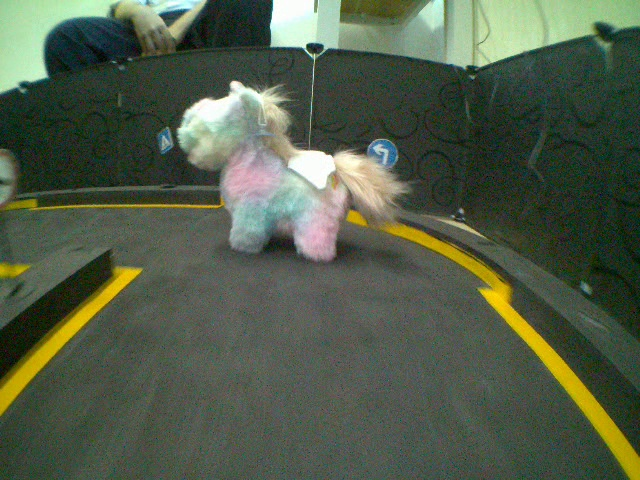unicorn: (167, 77, 407, 264)
